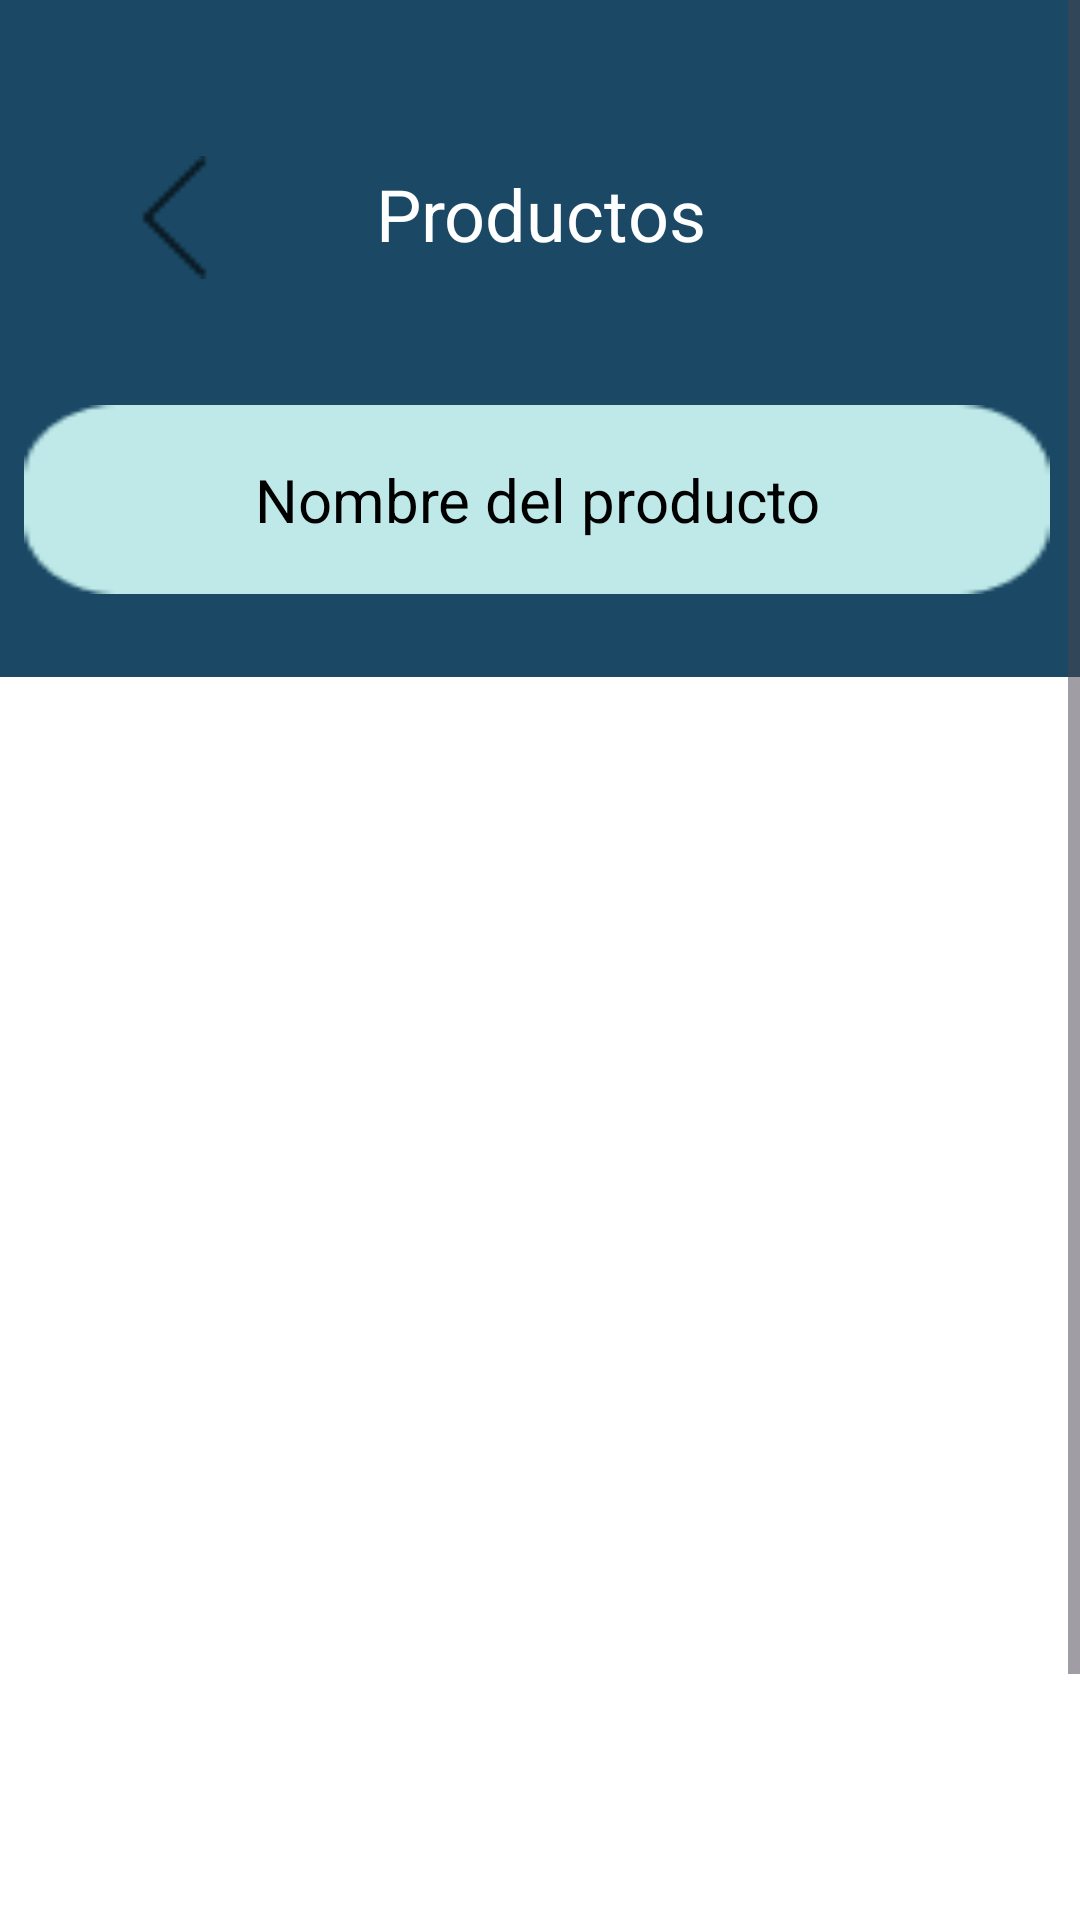

Where to tap for icons on this 1080*1920 app screen, as [x,y]:
flecha: [174,217]
